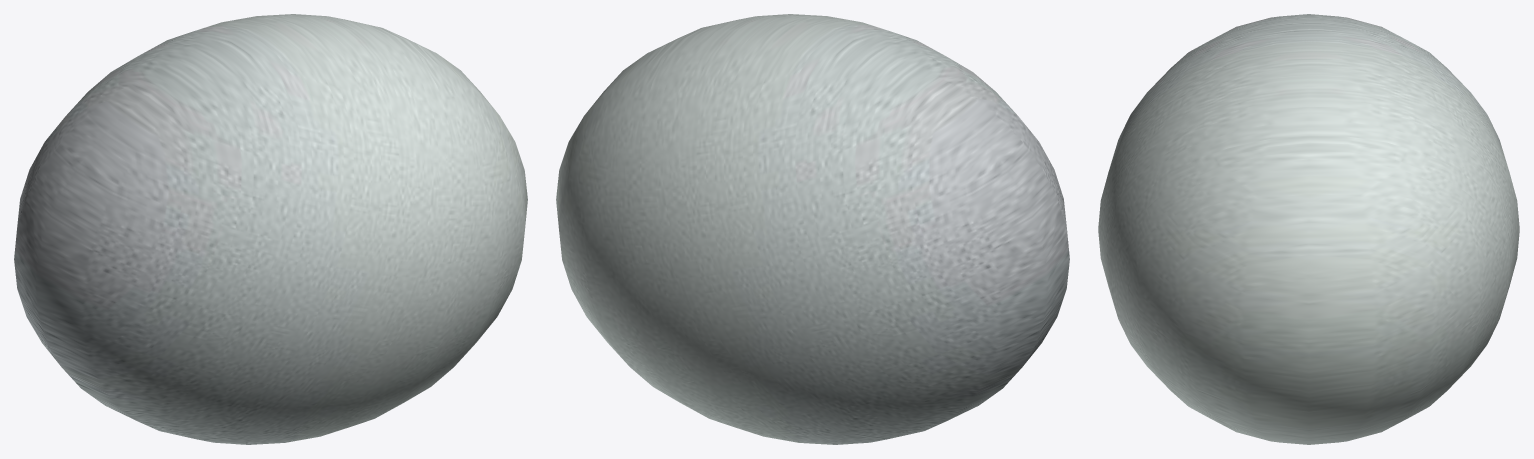
File: ARoom2.obj
3 renders of one model, left to right at view 1: azimuth 30°, elevation 25°; view 2: azimuth 150°, elevation 25°; view 3: azimuth 270°, elevation 25°, orthographic. The views are drawn at different scales.
Parts seen in each view (by area): view 1: pSphere1; view 2: pSphere1; view 3: pSphere1.
Boxes of the visible parts, left/top/right/bottom form: pSphere1: left=14, top=14, right=527, bottom=444; pSphere1: left=556, top=14, right=1069, bottom=444; pSphere1: left=1098, top=14, right=1519, bottom=444.
Size of the model in its own units: 0.4376 by 0.3417 by 0.3521.
